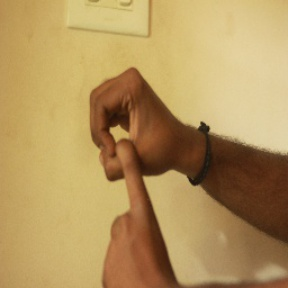Q: (86, 63, 198, 288)
